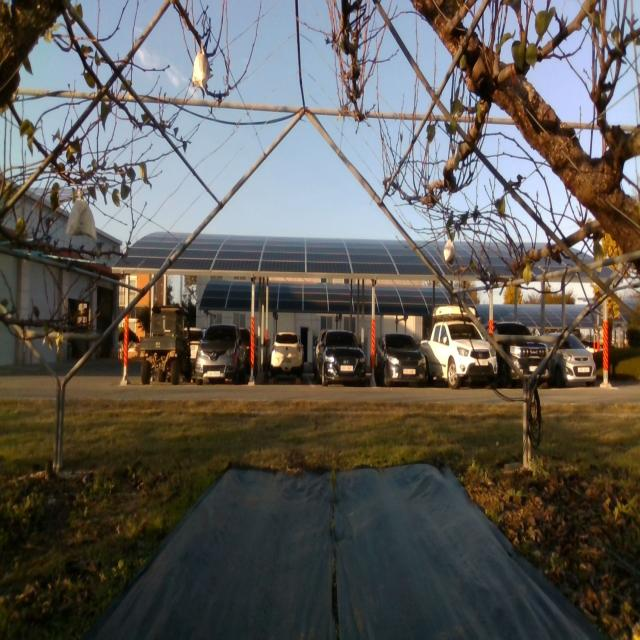pearbags: (66, 200, 97, 240), (193, 49, 209, 88), (444, 239, 454, 266)
